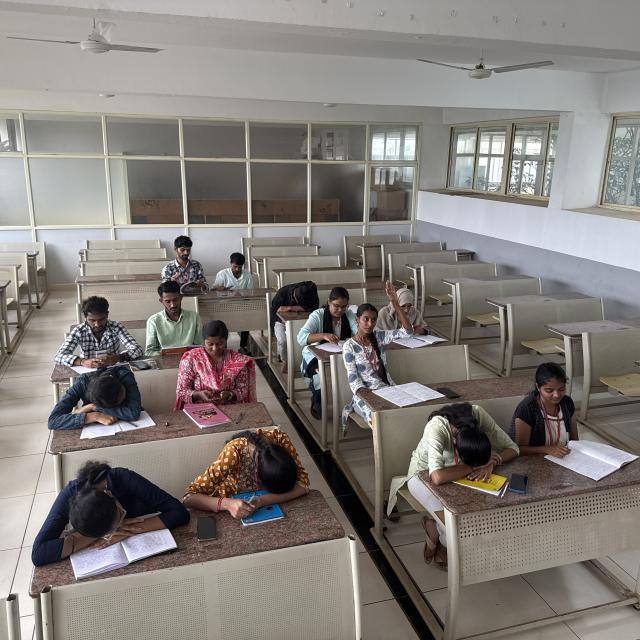Hand Rising: (346, 279, 412, 375)
Reading: (144, 280, 210, 354), (309, 285, 361, 354), (170, 234, 208, 296)
Sleeping: (35, 466, 186, 540), (183, 428, 318, 498), (414, 403, 518, 473), (48, 366, 149, 418), (273, 278, 322, 314)
Using Phone: (178, 321, 254, 404), (53, 296, 142, 365), (398, 283, 432, 337)
Writing: (512, 361, 615, 473)
